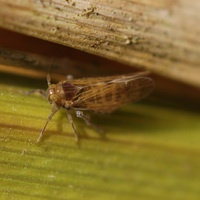insect: (36, 71, 154, 142)
